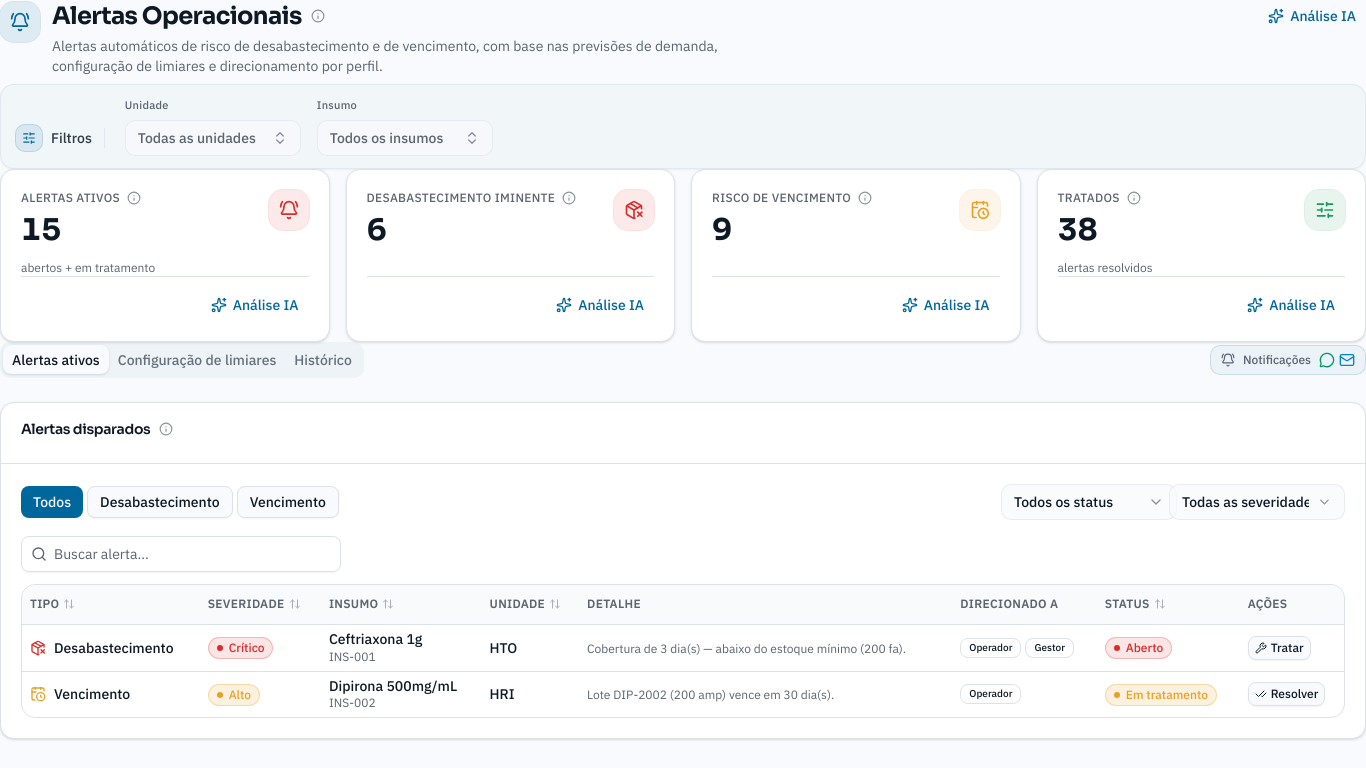
Test case: Análise por IA nas telas › abre o modal de análise por IA em Alertas
Click the button "Análise IA" in the row of "Alertas Operacionais".
click(1312, 16)  # box [1258,0,1365,32]
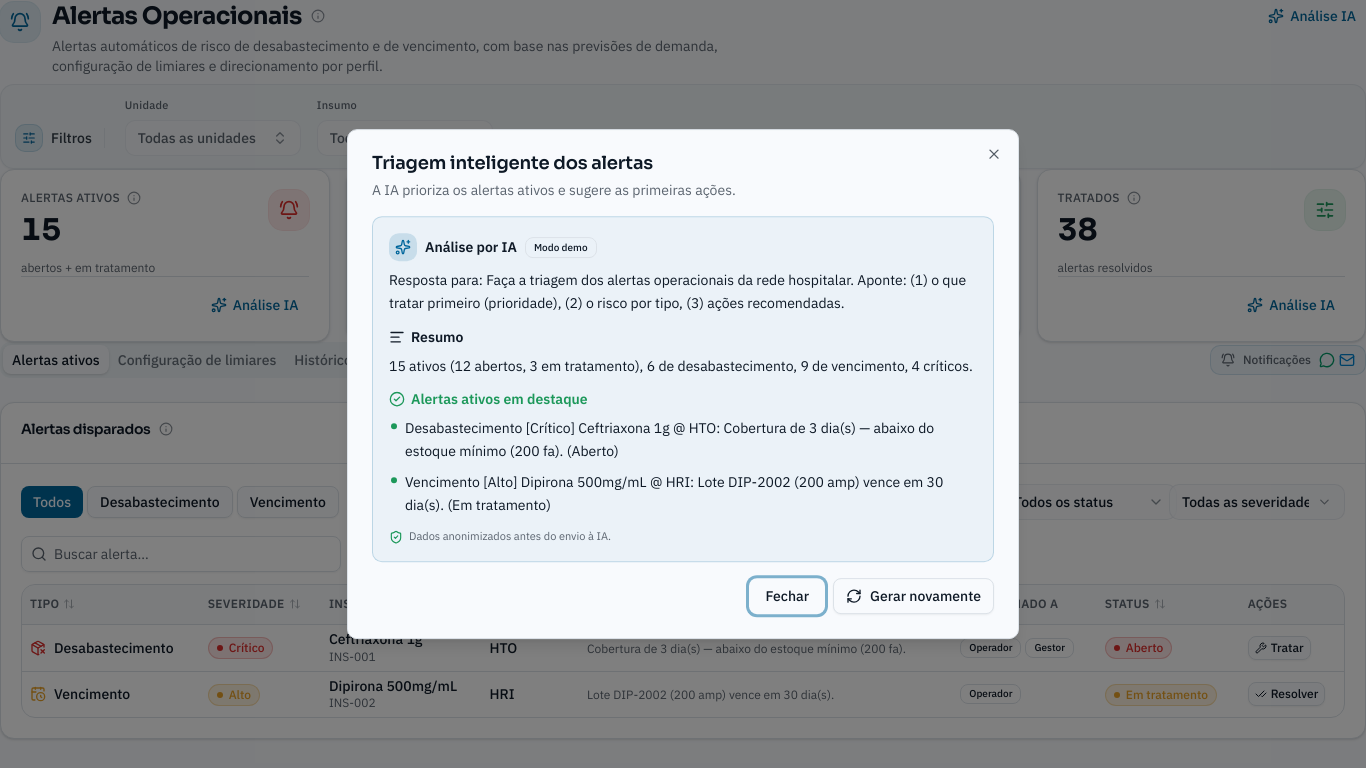
Expected: the text "Análise por IA" is shown, [425,237,517,257]
Expected: the text "Resposta para:" is shown, [389,271,966,312]
